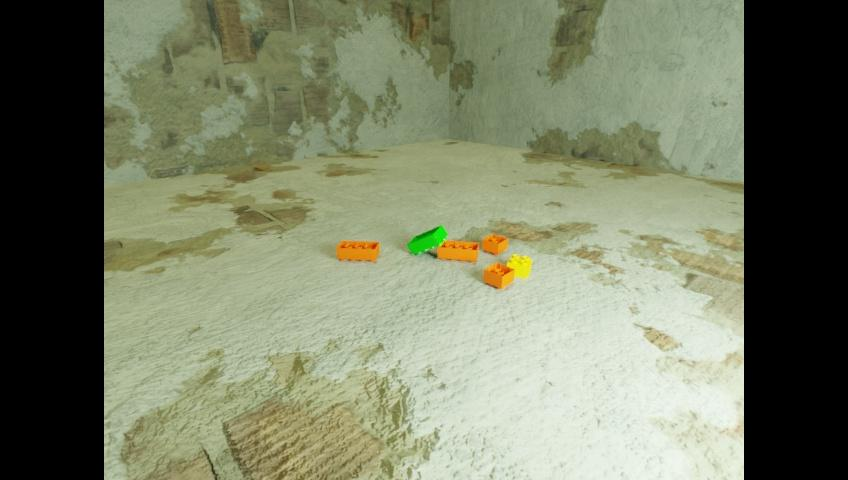2x2_orange: (483, 262, 514, 289), (482, 233, 507, 255)
2x2_yellow: (507, 253, 531, 278)
4x2_green: (406, 224, 447, 254)
4x2_orange: (437, 240, 478, 262), (336, 240, 378, 261)
